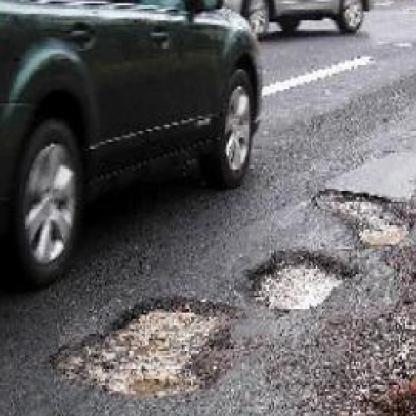pothole: (50, 289, 243, 405), (241, 245, 354, 316), (311, 184, 416, 250)
